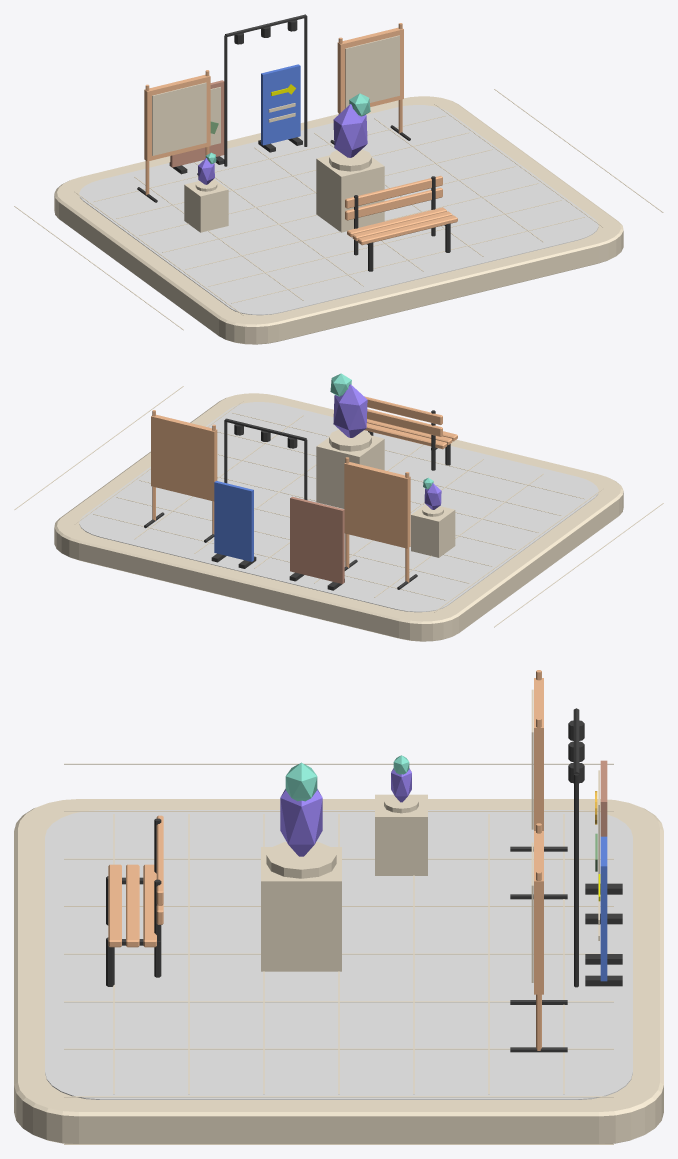
3 renders of one model, top to bottom at view 1: azimuth 30°, elevation 25°; view 2: azimuth 150°, elevation 25°; view 3: azimuth 270°, elevation 25°, orthographic. The views are drawn at different scales.
Visible parts, largest first — view 1: COM-02 Floor Surface, COM-01 Rounded Base Direct, Display plinth, Art surface, Art surface.001, Panel.001, Display plinth.001, Frame, Frame.001, Sculpture, Back slat.001, Back slat (+8 smaller); view 2: COM-02 Floor Surface, COM-01 Rounded Base Direct, Frame, Frame.001, Panel, Panel.001, Display plinth, Display plinth.001, Sculpture, Back slat.001, Back slat, Plinth (+2 smaller); view 3: COM-02 Floor Surface, COM-01 Rounded Base Direct, Display plinth, Display plinth.001, Sculpture, Plinth, Frame.001, Frame, Seat slat, Seat slat.001, Panel.001, Grout X.007 (+8 smaller).
Part boxes in pixels (x1,y1,x2,y2): COM-02 Floor Surface: (79, 105, 598, 315); COM-01 Rounded Base Direct: (54, 96, 623, 344); Display plinth: (316, 155, 384, 232); Art surface: (152, 82, 206, 155); Art surface.001: (345, 35, 399, 108); Panel.001: (261, 64, 300, 145); Display plinth.001: (184, 179, 228, 232); Frame: (144, 74, 210, 161); Frame.001: (337, 27, 403, 113); Sculpture: (333, 104, 367, 157); Back slat.001: (345, 175, 442, 208); Back slat: (345, 187, 442, 220); COM-02 Floor Surface: (79, 402, 598, 612); COM-01 Rounded Base Direct: (54, 393, 623, 641); Frame: (344, 462, 410, 548); Frame.001: (151, 414, 217, 501); Panel: (290, 496, 344, 583); Panel.001: (214, 481, 253, 561); Display plinth: (316, 435, 384, 508); Display plinth.001: (411, 504, 455, 557); Sculpture: (333, 384, 367, 437); Back slat.001: (364, 396, 442, 424); Back slat: (367, 409, 442, 436); Plinth: (329, 429, 371, 451); COM-02 Floor Surface: (45, 810, 632, 1099); COM-01 Rounded Base Direct: (14, 799, 663, 1143); Display plinth: (261, 847, 341, 971); Display plinth.001: (375, 794, 427, 875); Sculpture: (280, 789, 322, 856); Plinth: (266, 842, 336, 878); Frame.001: (534, 831, 543, 994); Frame: (534, 678, 543, 830); Seat slat: (108, 864, 121, 947); Seat slat.001: (126, 864, 139, 947); Panel.001: (600, 836, 607, 981); Grout X.007: (64, 1096, 613, 1097).
Bounding box in the file's own units: 7.21 × 2.19 × 5.2.
1 material, 1 textured.
